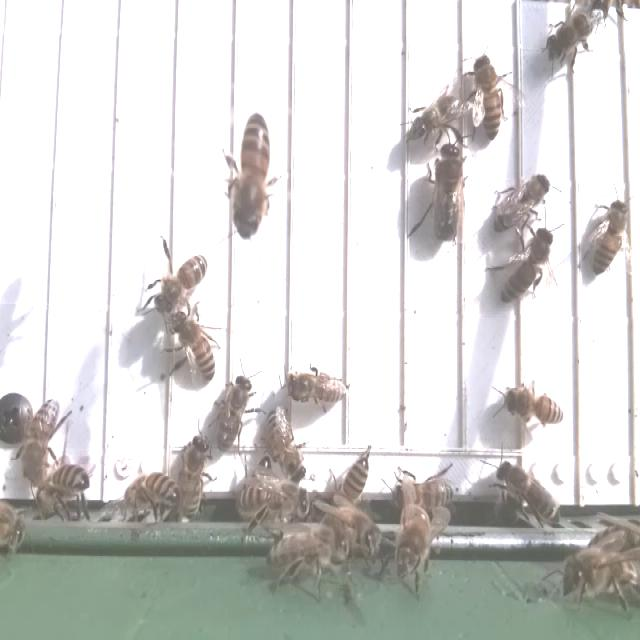Drone: (428, 141, 467, 244)
Worker: (228, 109, 273, 242), (497, 223, 557, 309), (494, 459, 562, 524), (488, 171, 551, 235), (151, 251, 211, 316), (21, 393, 62, 488), (263, 400, 307, 486), (586, 196, 630, 280), (468, 48, 505, 147), (170, 313, 218, 383), (215, 369, 253, 454), (33, 459, 90, 514), (282, 366, 352, 408), (503, 382, 563, 431), (122, 468, 183, 516), (178, 431, 210, 522), (394, 475, 455, 513), (336, 452, 371, 510)
